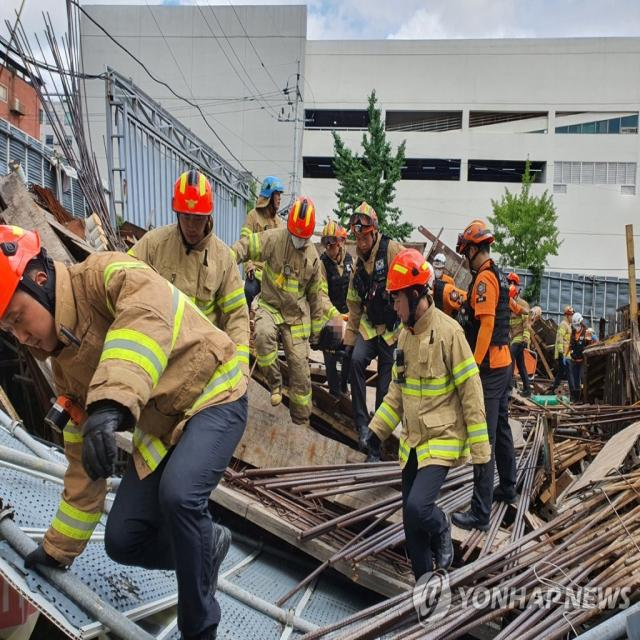gloves: (79, 404, 125, 483)
helmet: (1, 224, 44, 318), (386, 246, 432, 293), (171, 168, 215, 216), (290, 192, 316, 238), (462, 216, 494, 250), (352, 200, 379, 227), (260, 172, 284, 198), (322, 220, 345, 242), (571, 308, 584, 328), (508, 268, 521, 287), (564, 301, 577, 316), (509, 287, 518, 298)
vest: (68, 256, 214, 462), (396, 320, 461, 465), (266, 227, 313, 324)
